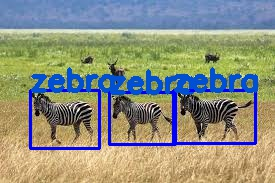zebra: (173, 90, 255, 142), (29, 89, 98, 147), (109, 92, 175, 144)
